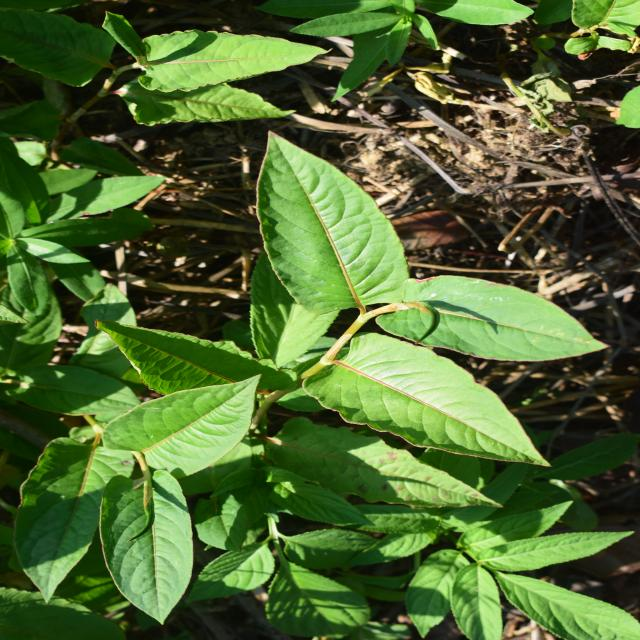Chinese_knotweed: (165, 100, 478, 576), (39, 20, 258, 265)
